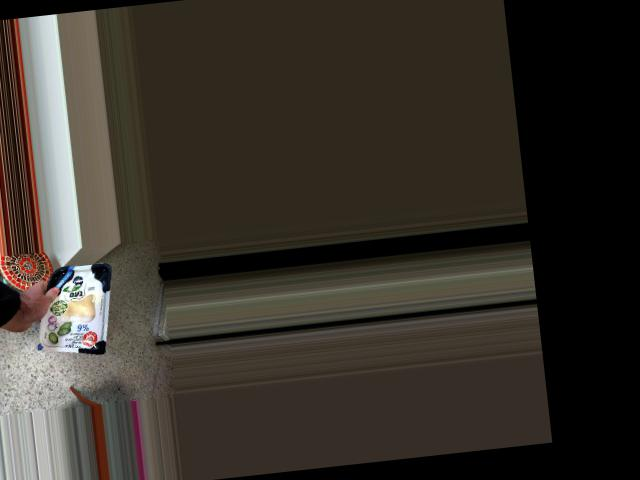cheese: (18, 279, 95, 353)
